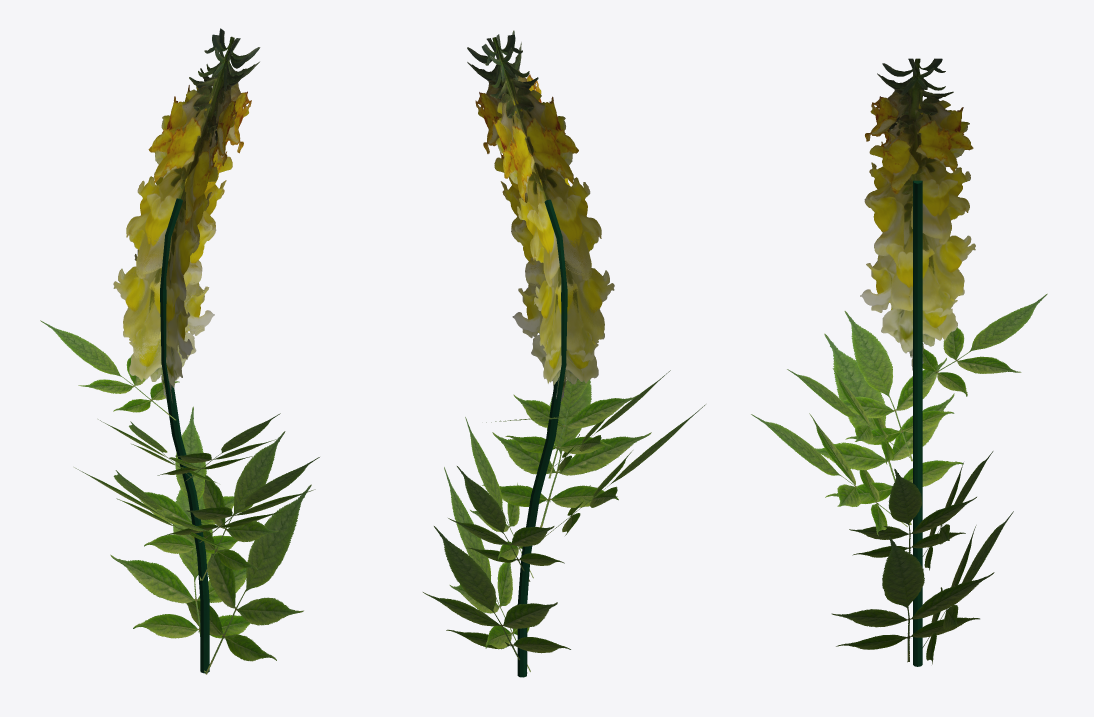
File: flower-2.fbx
3 renders of one model, left to right at view 1: azimuth 30°, elevation 25°; view 2: azimuth 150°, elevation 25°; view 3: azimuth 270°, elevation 25°, orthographic.
Parts seen in each view (by area): view 1: Mesh; view 2: Mesh; view 3: Mesh.
Part boxes in pixels (x1,y1,x2,y2): Mesh: (40, 28, 319, 674); Mesh: (423, 30, 705, 677); Mesh: (751, 58, 1047, 666).
Bounding box in the file's own units: 116 × 267 × 125.
